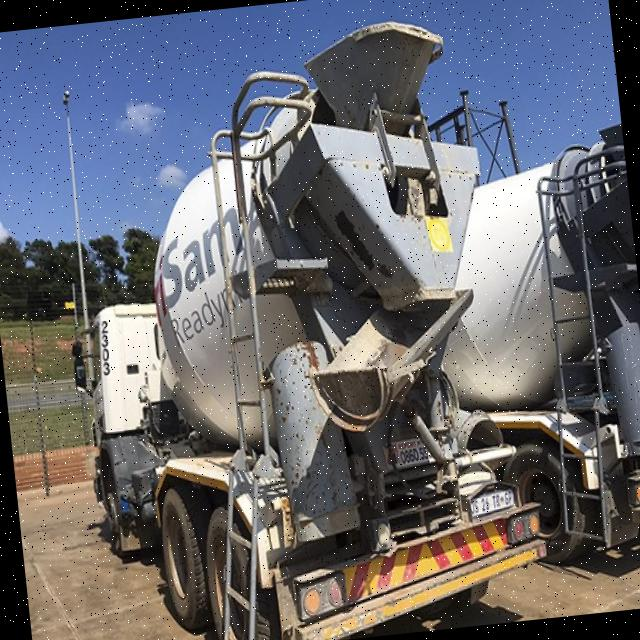Mixer Truck: (46, 10, 552, 640), (418, 118, 640, 571)
